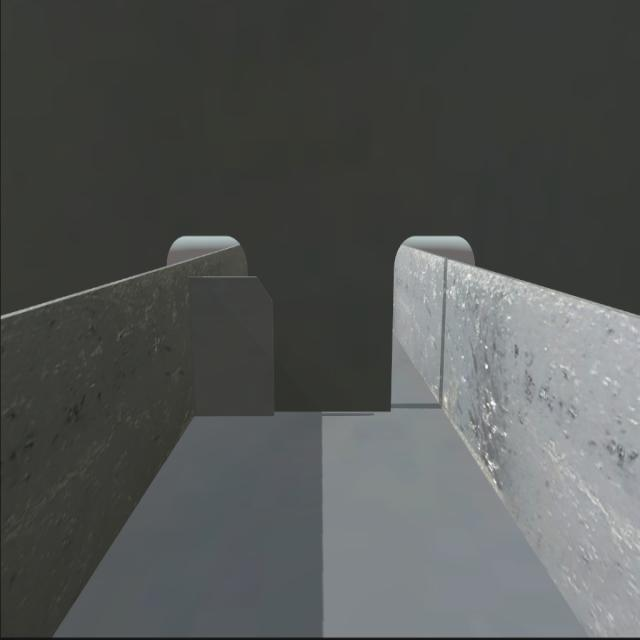fillet_yong_jeop_jang: (188, 399, 397, 421)
longi_yong_jeop_jang: (184, 270, 201, 424)
plate_CP03: (188, 277, 280, 415)
